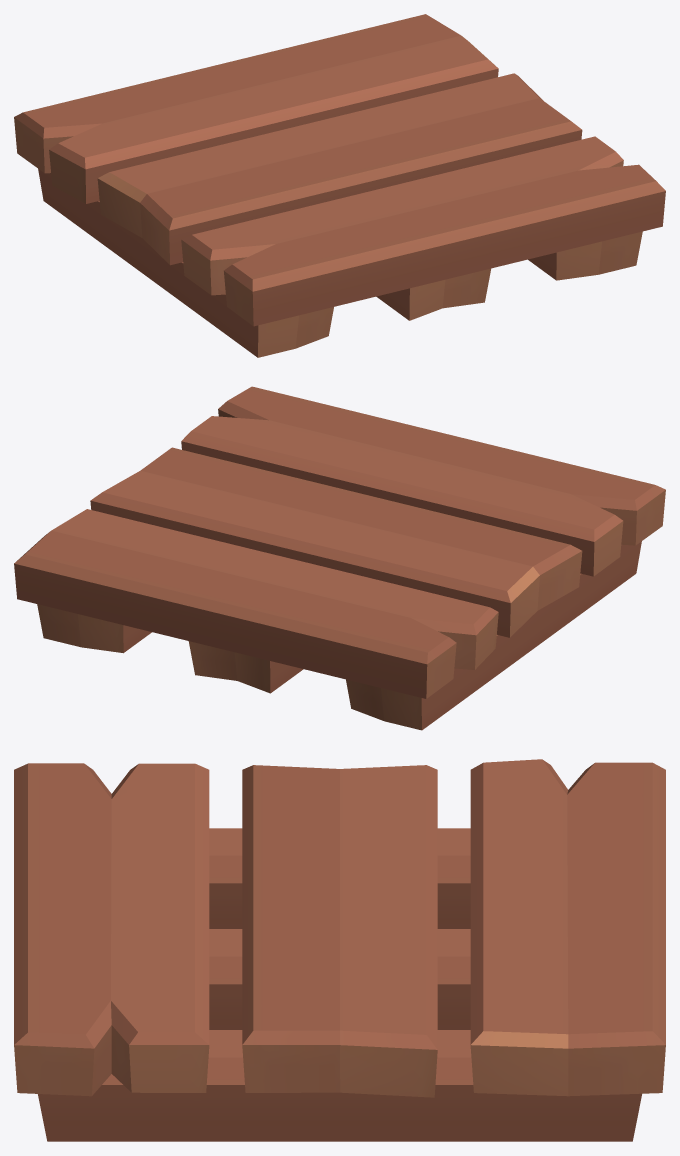
Rendered from pallet-wood.glb.
The picture shows the model from 3 angles, top to bottom: view 1: azimuth 30°, elevation 25°; view 2: azimuth 150°, elevation 25°; view 3: azimuth 270°, elevation 25°; orthographic projection. The views are drawn at different scales.
Parts seen in each view (by area): view 1: Pallet_Wood; view 2: Pallet_Wood; view 3: Pallet_Wood.
Part boxes in pixels (x1,y1,x2,y2): Pallet_Wood: [14, 14, 665, 357]; Pallet_Wood: [14, 386, 665, 730]; Pallet_Wood: [14, 759, 665, 1141].
Bounding box in the file's own units: 1.55 × 0.3 × 1.5.
Materials: 1 (1 with a texture image).
